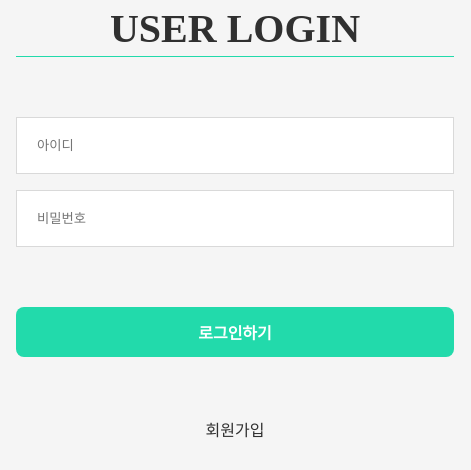
Scenario: LoginForm › 로그인에 실패했을 때 › 잘못된 유저 정보로 로그인을 시도하는 경우
Type "xxx" into the field with placeholder "아이디" at (235, 146), box [16,117,454,174]
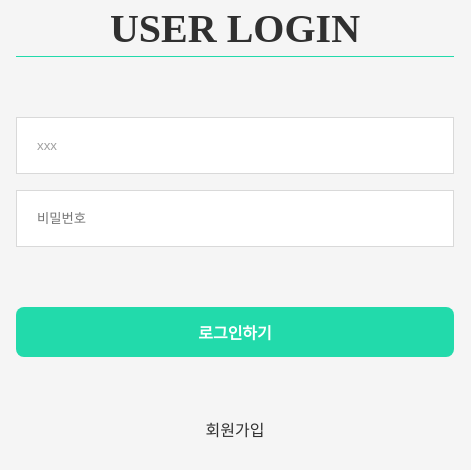
Type "xxx" into the password field with placeholder "비밀번호" at (235, 219), box [16,190,454,247]
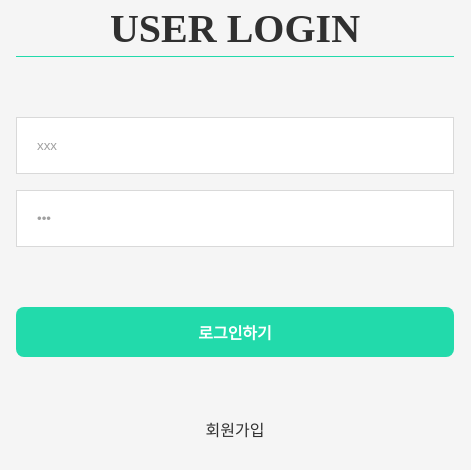
Click the button "로그인하기" at (235, 332), box [16,307,454,357]
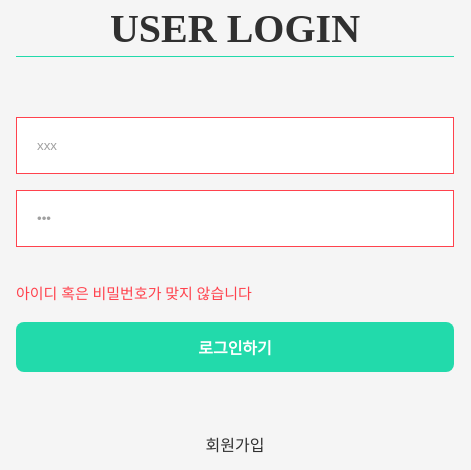
Expected: the text "아이디 혹은 비밀번호가 맞지 않습니다" is shown, [16,286,252,302]
